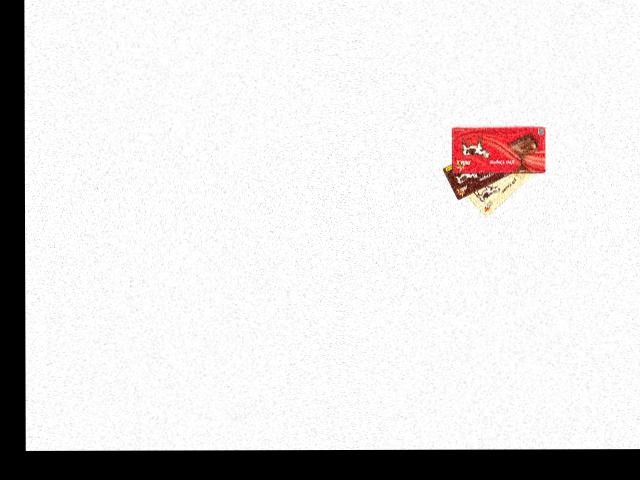chocolate: (456, 164, 542, 218)
